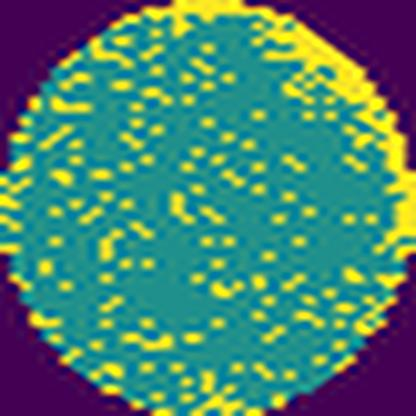Edge-Loc: (114, 0, 416, 249)
